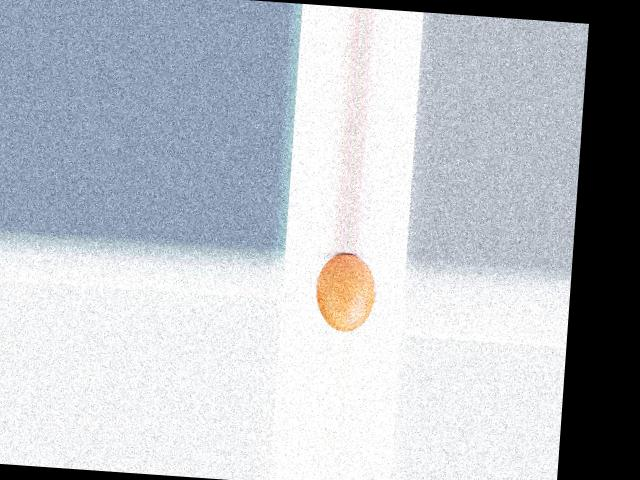egg: (313, 252, 377, 332)
